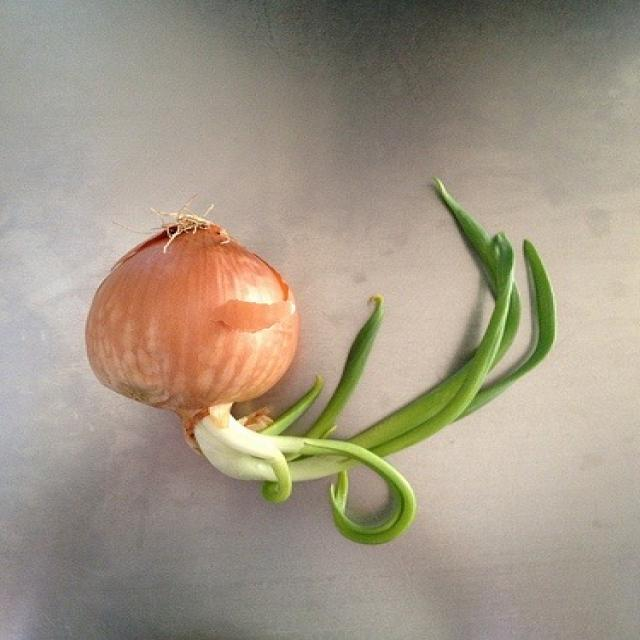sprouting: (95, 145, 572, 533)
